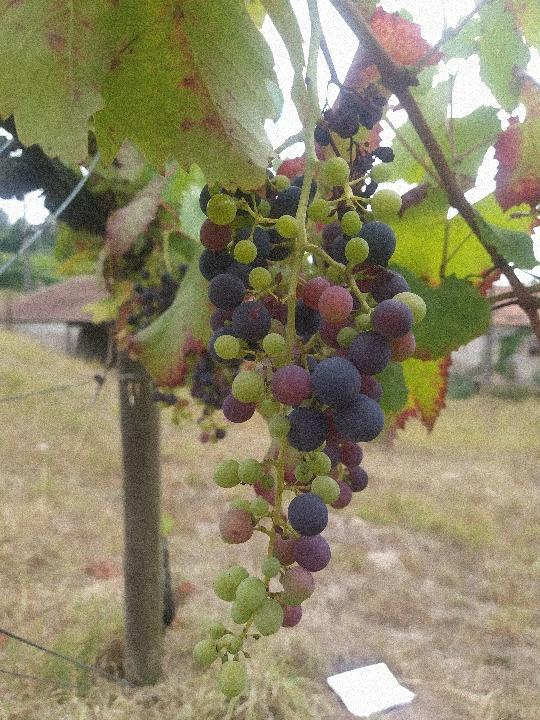grape: (190, 81, 430, 699)
